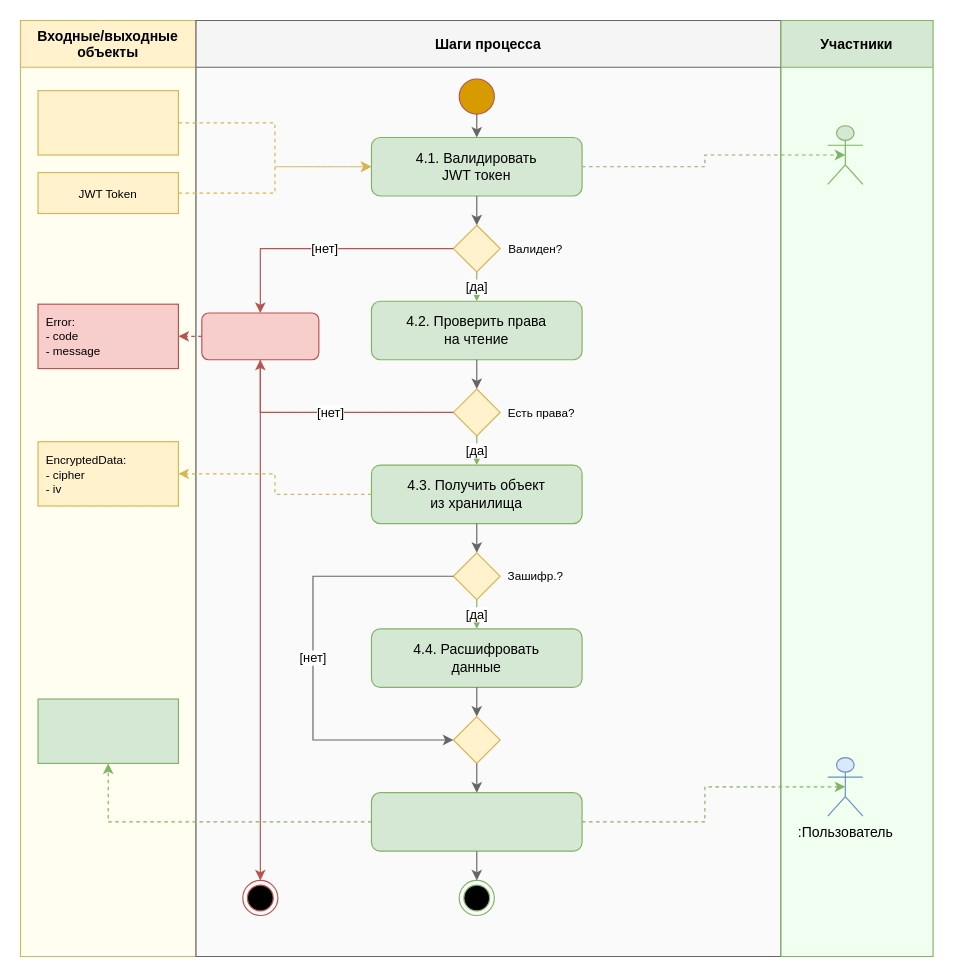
Some shapes in this 954 by 977 pixel diagram are drawn without their labels. The shapes that lost their labels are listed below. From the top down, each one's centre as x and y in pixels, then its label:
At point (107, 122): "DownloadRequest: - bucket - key".
At point (845, 154): ":Система".
At point (260, 336): "Вернуть ошибку".
At point (107, 730): "ObjectData: - content - metadata".
At point (476, 821): "4.5. Вернуть данные клиенту".
